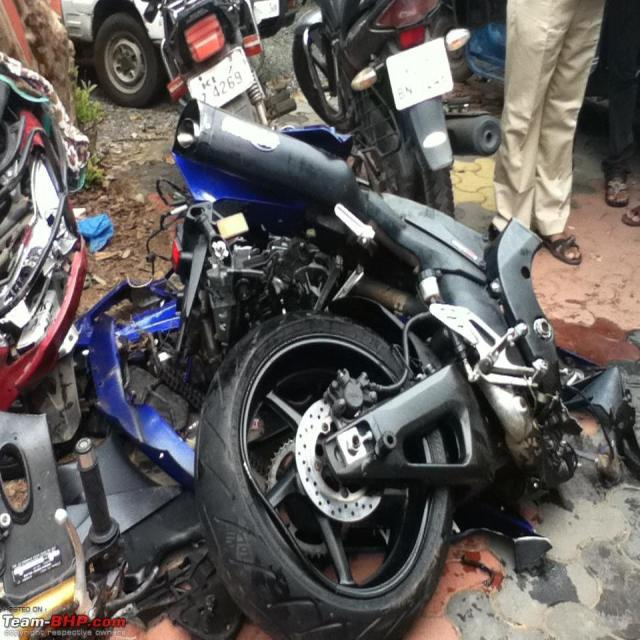accident: (79, 100, 619, 634)
